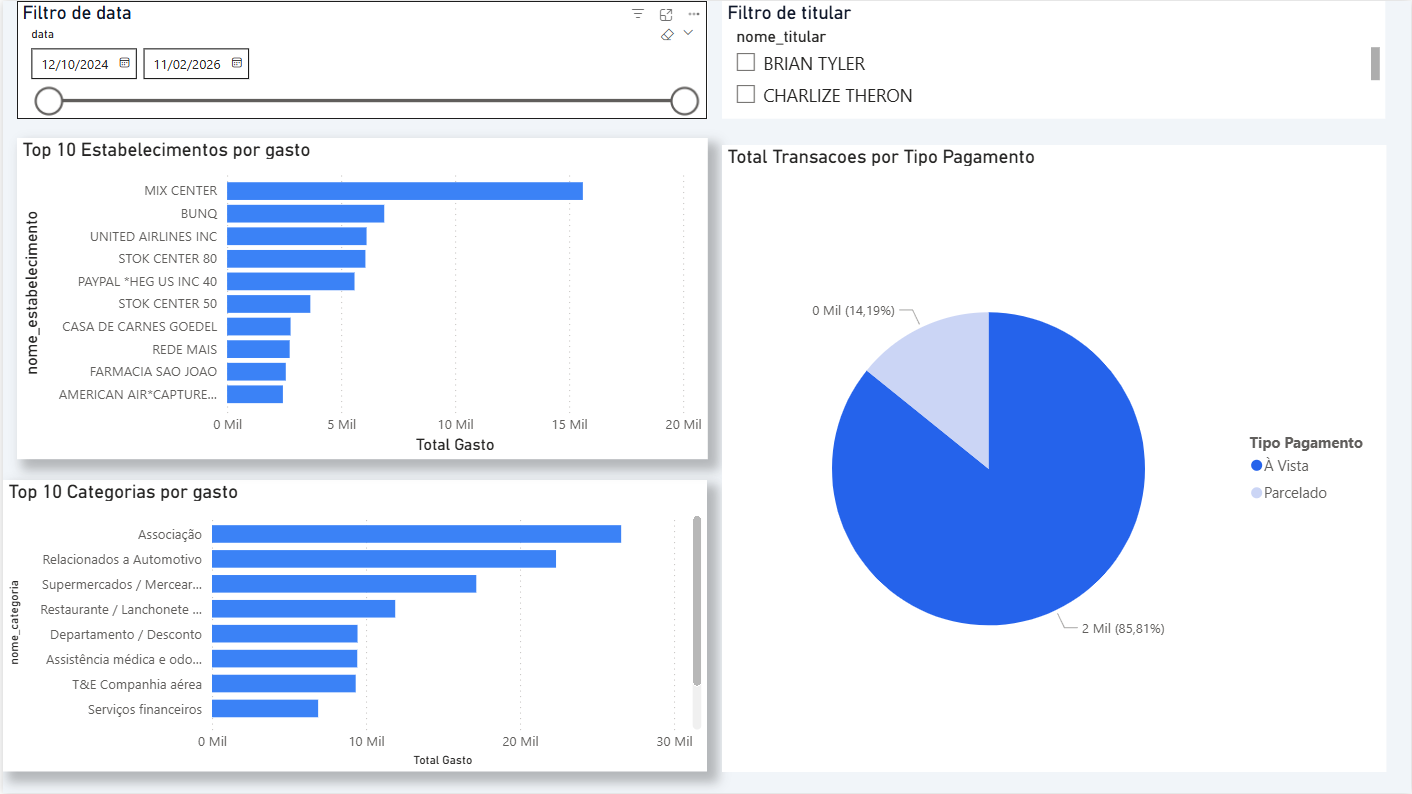

What the dashboard file says about the page in this screenshot:
{"tool":"powerbi","page":{"name":"Categorias e Estabelecimento","canvas":[1280,720],"ordinal":1},"visuals":[{"type":"clusteredBarChart","title":"Top 10 Categorias por gasto","fields":{"Category":["public dim_categoria.nome_categoria"],"Y":["public fato_transacao.Total Gasto"]},"box":[0,435.6,640,264.9],"z":0},{"type":"clusteredBarChart","title":"Top 10 Estabelecimentos por gasto","fields":{"Category":["public dim_estabelecimento.nome_estabelecimento"],"Y":["public fato_transacao.Total Gasto"]},"box":[12.4,124.4,627.6,291.6],"z":1000},{"type":"pieChart","title":"Total Transacoes por Tipo Pagamento","fields":{"Y":["public fato_transacao.Total Transacoes"],"Category":["public fato_transacao.Tipo Pagamento"]},"box":[653.3,130.7,603.6,569.8],"z":2000},{"type":"slicer","title":"Filtro de titular","fields":{"Values":["public dim_titular.nome_titular"]},"box":[653.6,0,603.3,106.8],"z":3000},{"type":"slicer","title":"Filtro de data","fields":{"Values":["public dim_data.data"]},"box":[12.6,0,627.5,106.8],"z":4000}]}

Visuals, with their boxes in screenshot pixels (x1, y1, x2, y2), scaled from the page's 1280x720 canvas onto the 1412x794 screenshot:
"Top 10 Categorias por gasto" clusteredBarChart: [0,480,706,772]
"Top 10 Estabelecimentos por gasto" clusteredBarChart: [14,137,706,459]
"Total Transacoes por Tipo Pagamento" pieChart: [721,144,1387,772]
"Filtro de titular" slicer: [721,0,1387,118]
"Filtro de data" slicer: [14,0,706,118]
